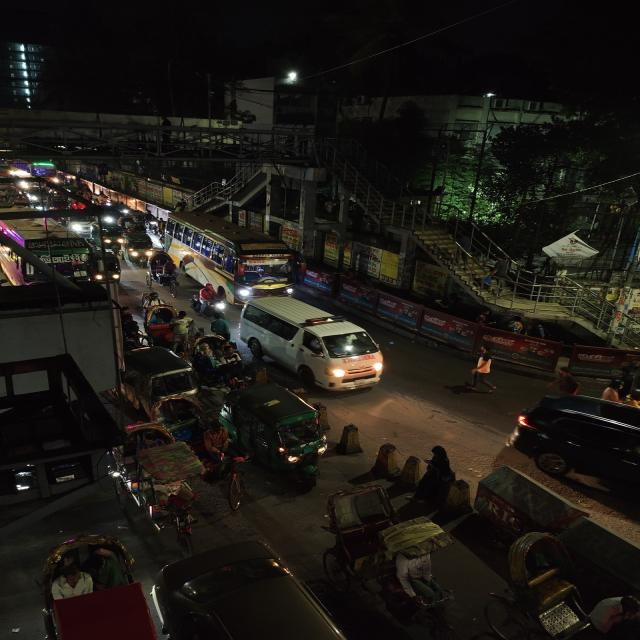bus: (164, 211, 302, 299), (0, 216, 123, 291)
car: (151, 537, 416, 640), (503, 392, 640, 506), (235, 296, 390, 392)
cng: (226, 384, 336, 478), (120, 347, 201, 415), (122, 232, 155, 263), (96, 223, 123, 250)
motorcycle: (195, 282, 229, 318)
pedestrian: (459, 348, 502, 396)
rickshaw: (326, 492, 462, 618), (27, 529, 153, 640), (109, 420, 214, 538), (495, 530, 596, 640), (191, 336, 248, 392), (142, 303, 178, 345), (145, 250, 180, 286)
truck: (0, 218, 123, 290)
